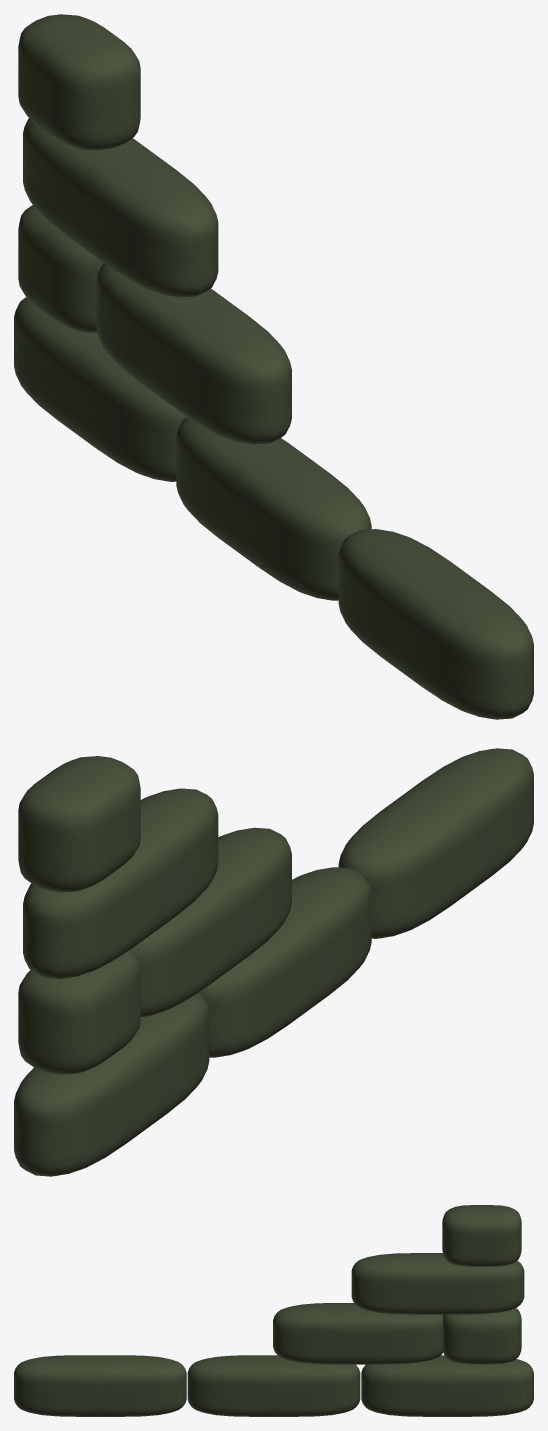
File: Wall 8.fbx
The picture shows the model from 3 angles, top to bottom: view 1: azimuth 30°, elevation 25°; view 2: azimuth 150°, elevation 25°; view 3: azimuth 270°, elevation 25°; orthographic projection. The views are drawn at different scales.
Parts seen in each view (by area): view 1: Cube; view 2: Cube; view 3: Cube.
Boxes of the visible parts, <box> form: Cube: <box>14,14,533,719</box>; Cube: <box>14,748,533,1176</box>; Cube: <box>14,1205,533,1416</box>.
Size of the model in its own units: 81.86 by 371 by 866.
